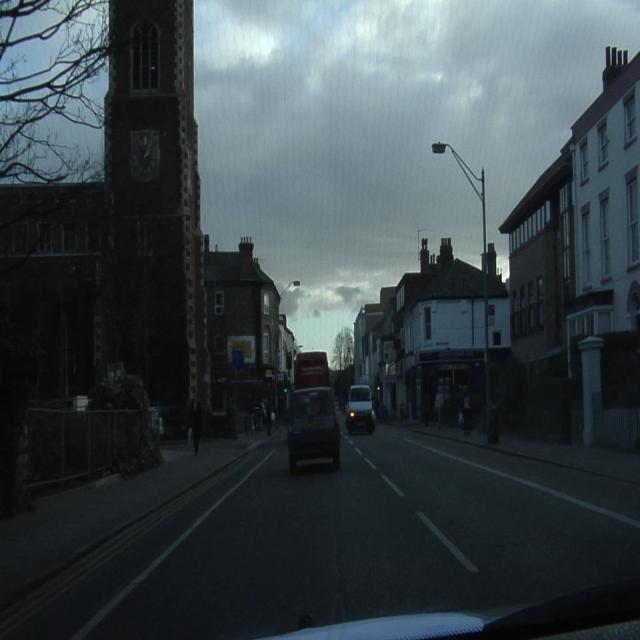Building: (0, 0, 294, 429), (354, 48, 638, 443)
Car: (288, 389, 340, 471), (347, 385, 375, 431)
Road: (2, 425, 639, 634)
